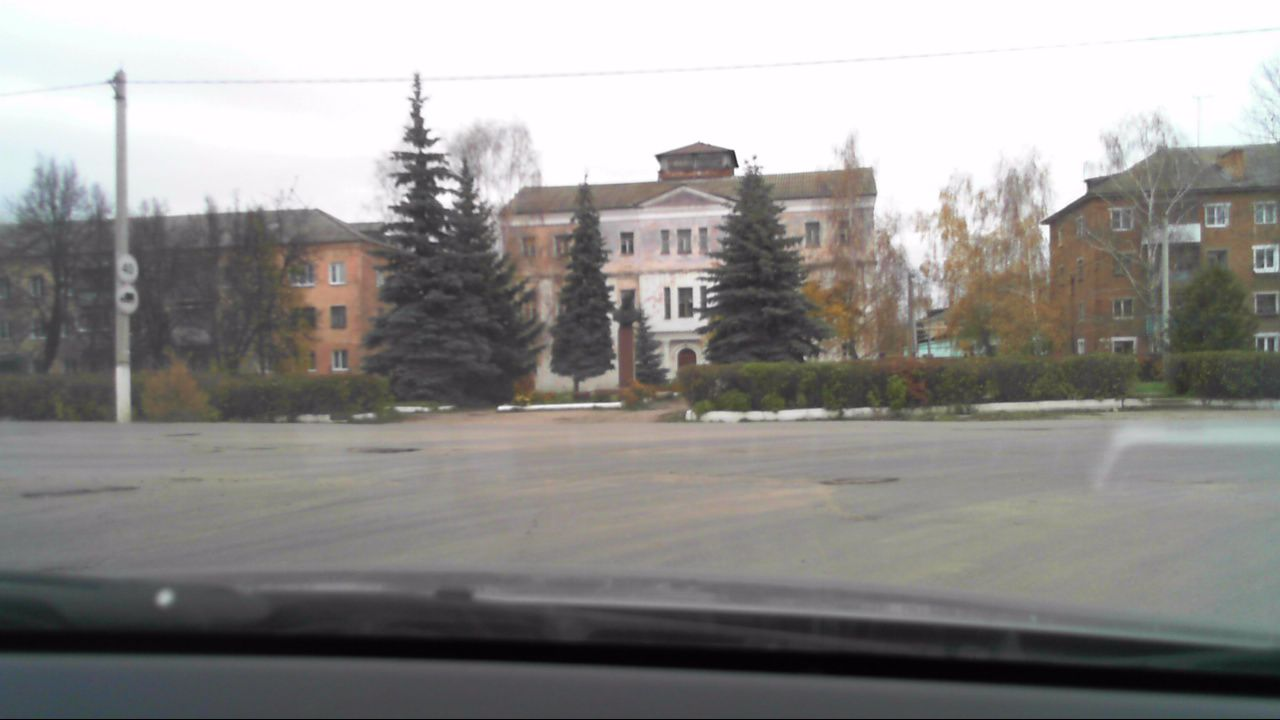speed_warning_40: (117, 252, 143, 282)
